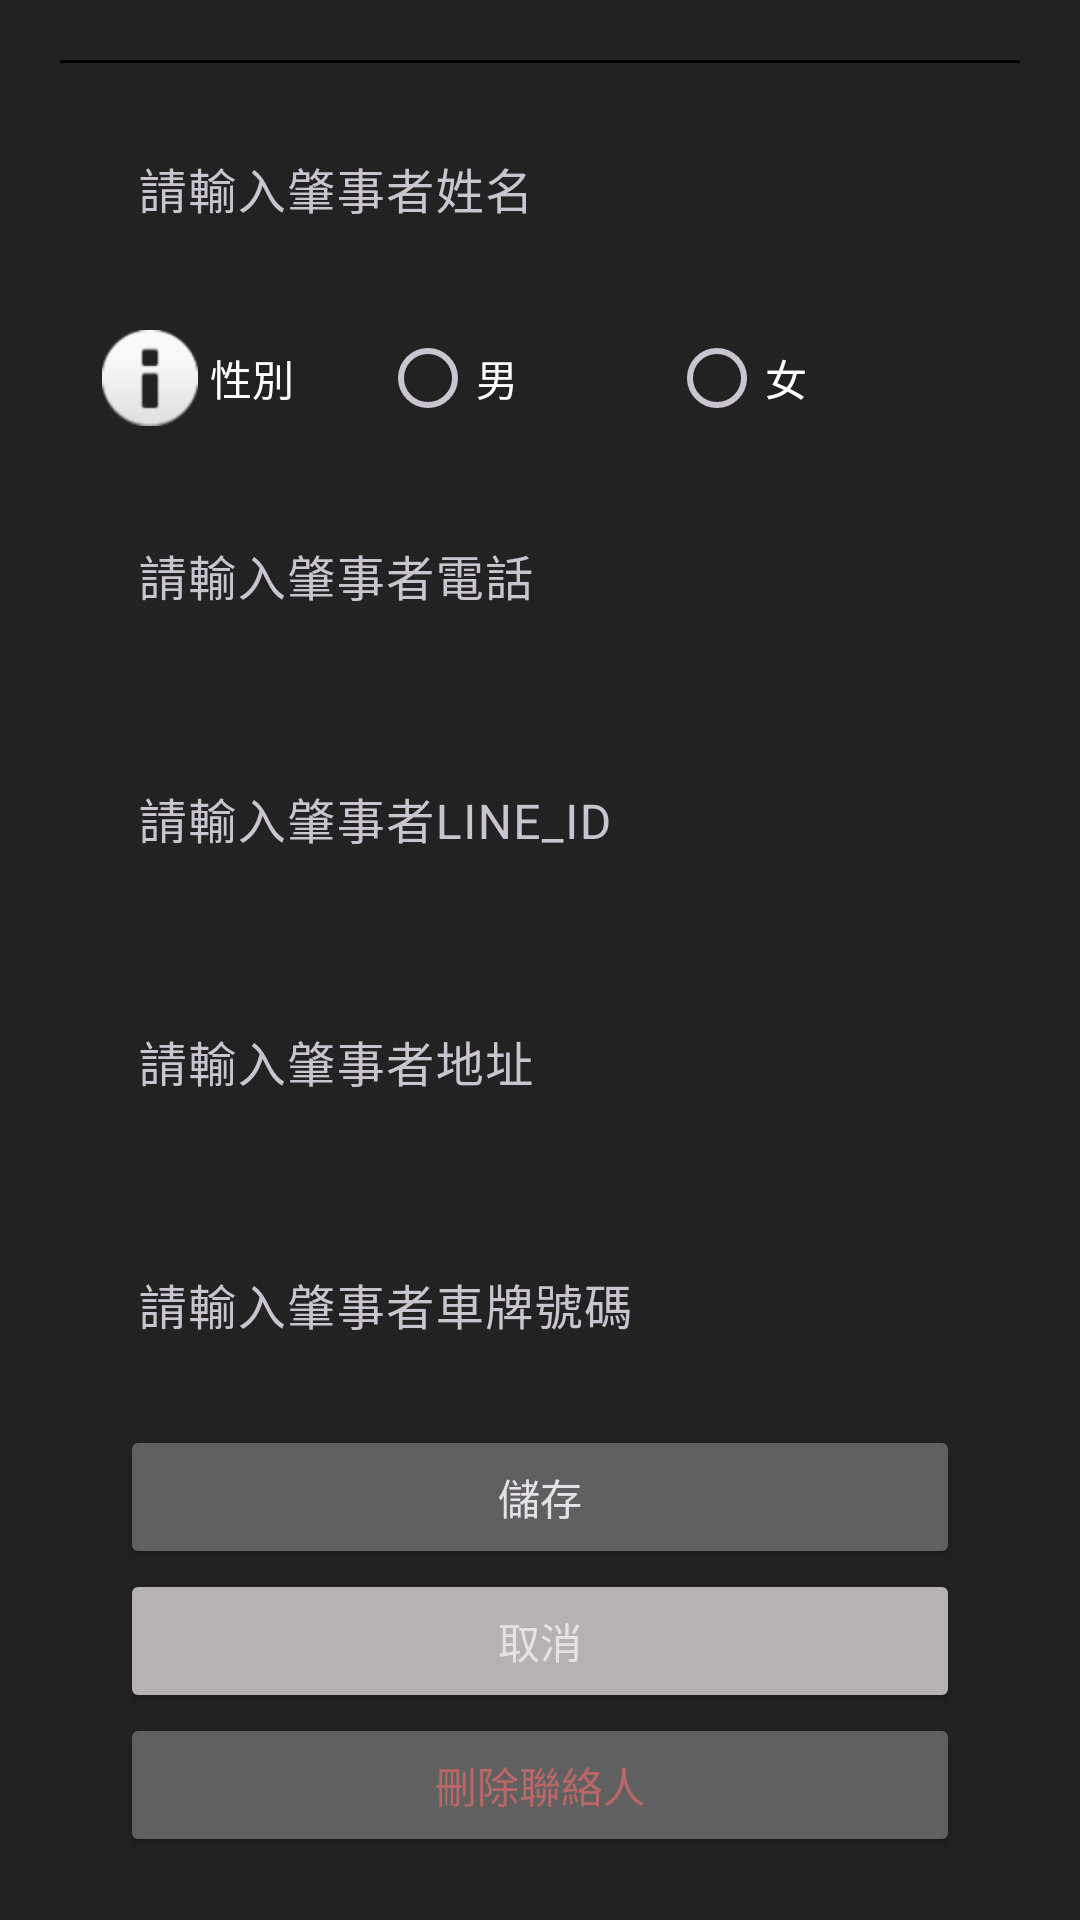

Icons on this 1080px x 1920px Android screen, each with its box as (x1=x1, y1=y1, x2=x2, y2=y2):
info: (x1=102, y1=330, x2=198, y2=426)
